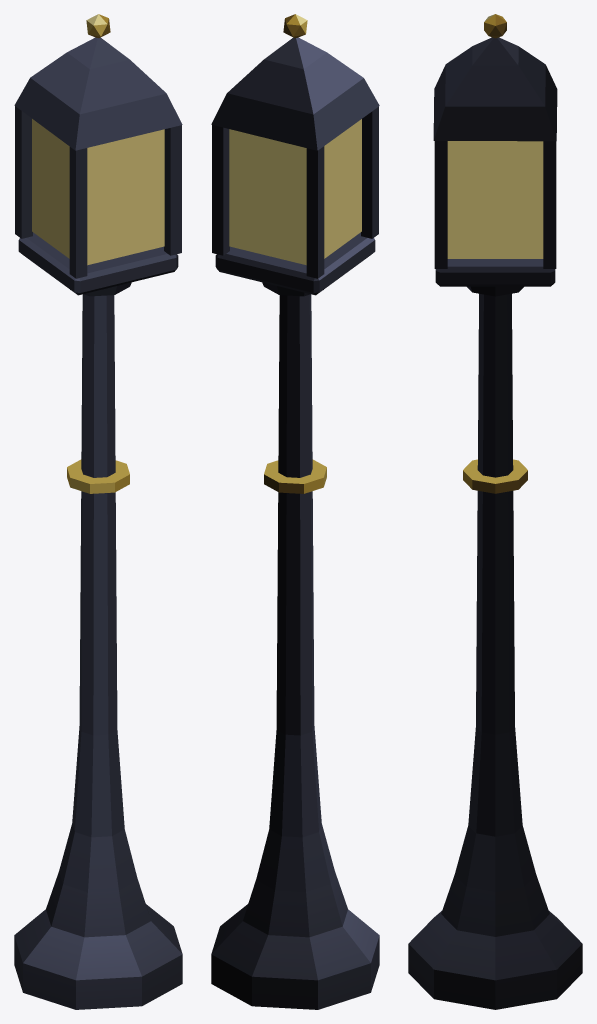
File: lamp_post.glb
The picture shows the model from 3 angles, left to right: view 1: azimuth 30°, elevation 25°; view 2: azimuth 150°, elevation 25°; view 3: azimuth 270°, elevation 25°; orthographic projection.
Visible parts, largest first — view 1: lamp_post; view 2: lamp_post; view 3: lamp_post.
Boxes of the visible parts, x1,y1,x2,y2 form: lamp_post: (14,14,182,1009); lamp_post: (211,14,379,1009); lamp_post: (408,14,582,1009).
Bounding box in the file's own units: 0.32 × 1.95 × 0.32.
